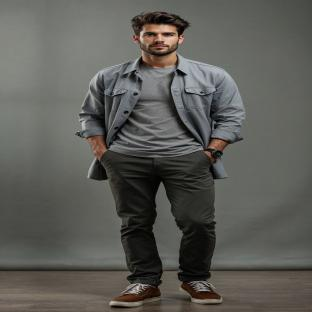Human: (76, 12, 245, 306)
